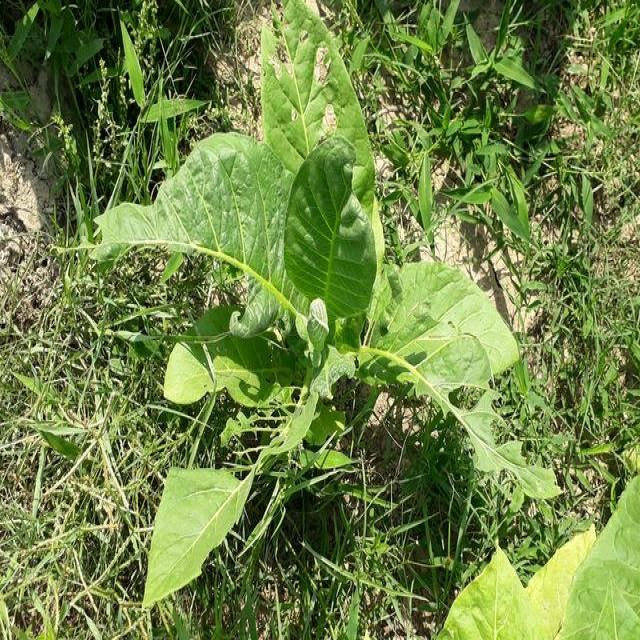crop: (104, 6, 529, 573), (472, 560, 640, 639)
